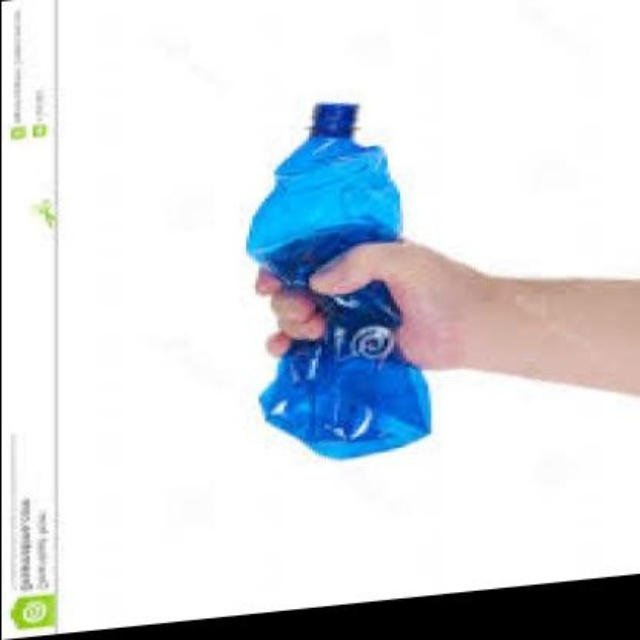trash: (248, 103, 429, 457)
